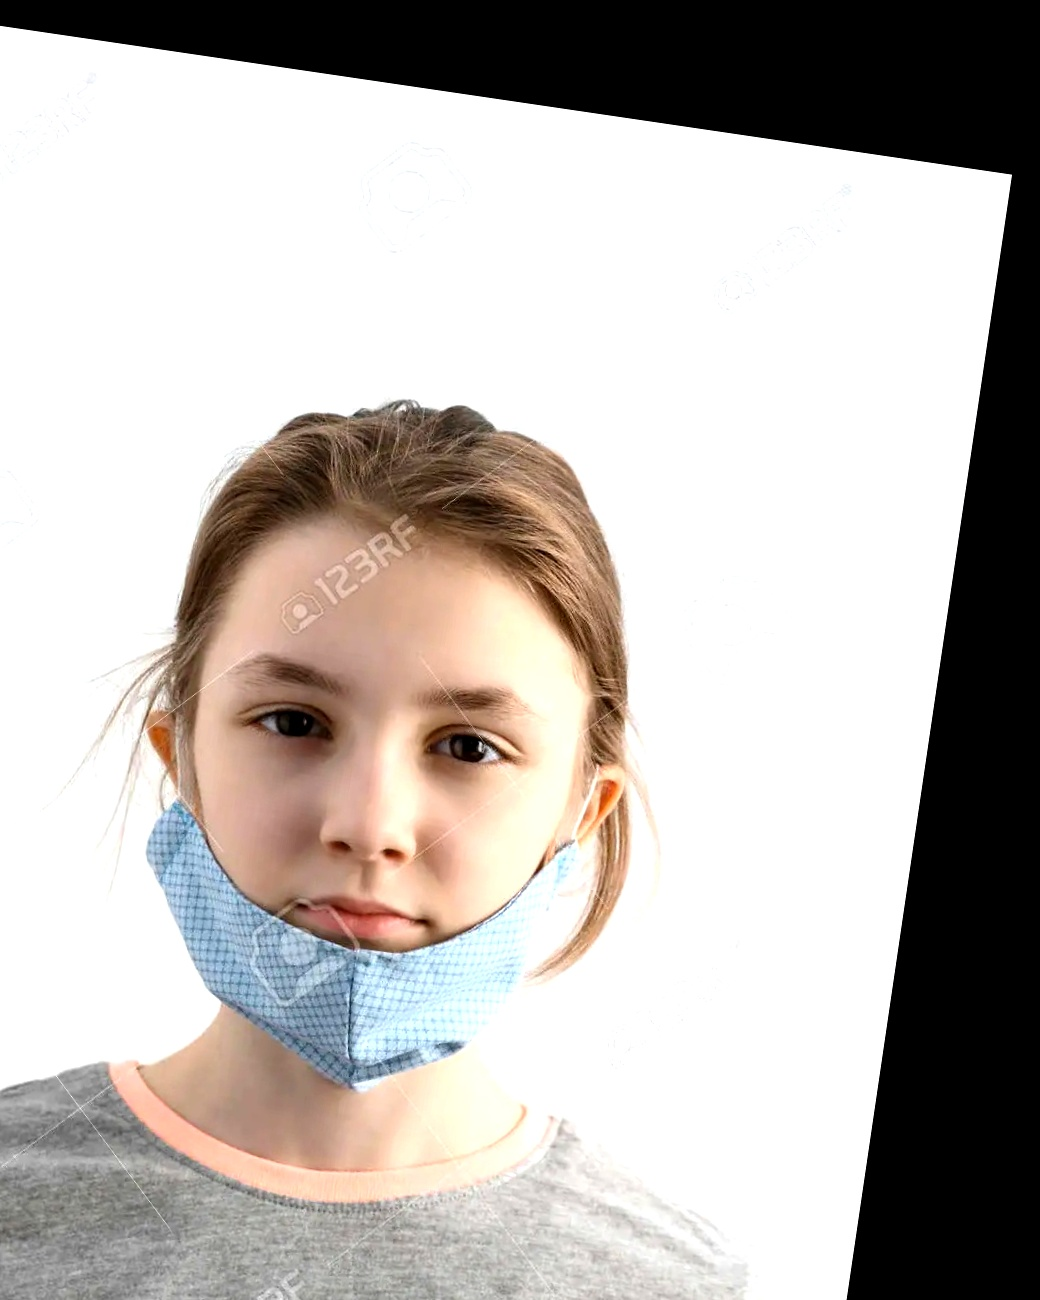mask_weared_incorrect: (176, 441, 630, 1073)
